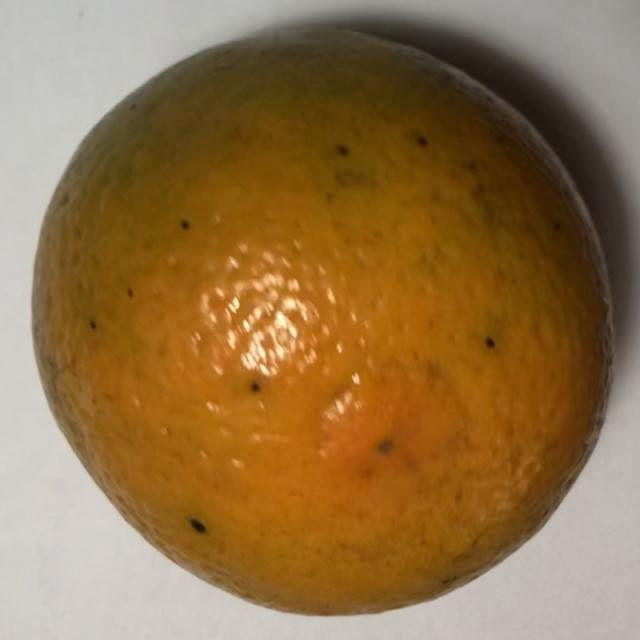blackspot: (18, 24, 620, 616)
